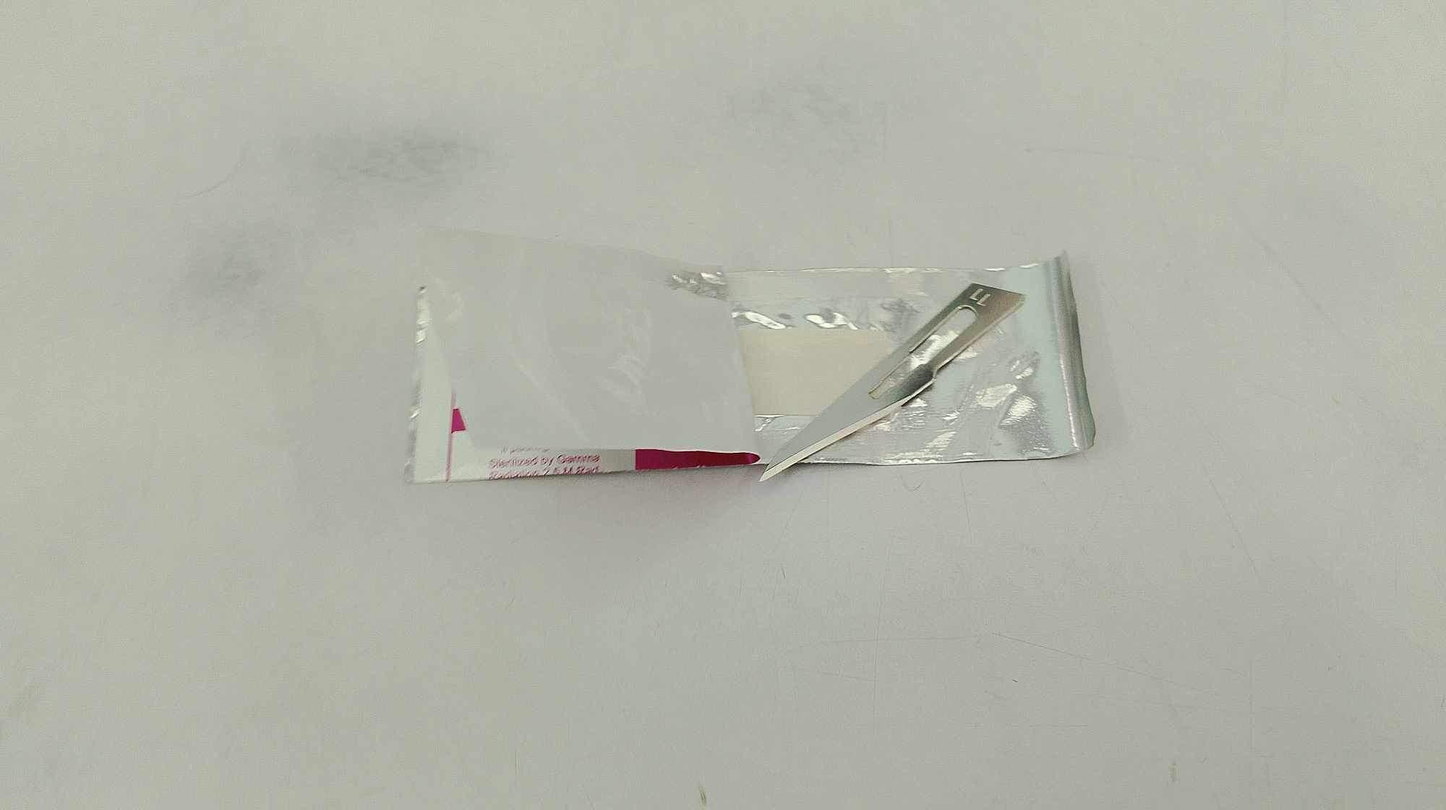General: (402, 224, 1097, 487)
